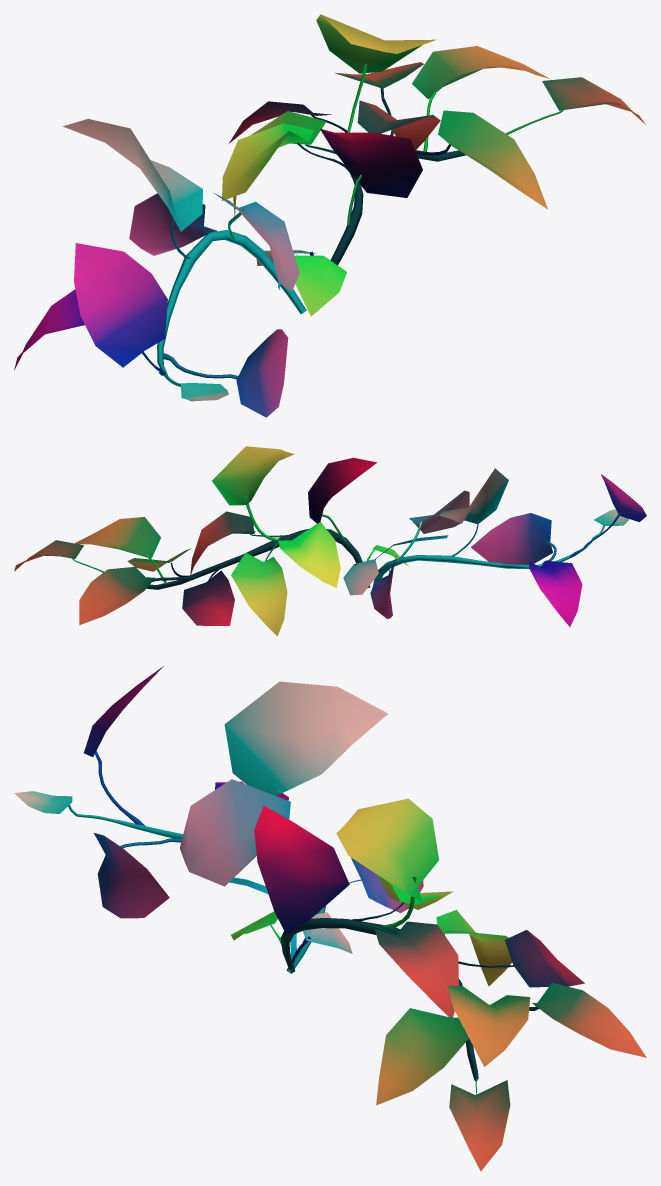
The model's file is Money_Plant_uchmfdyia_Low_uchmfdyia_VarD_LOD0.fbx.
The picture shows the model from 3 angles, top to bottom: view 1: azimuth 30°, elevation 25°; view 2: azimuth 150°, elevation 25°; view 3: azimuth 270°, elevation 25°; orthographic projection. The views are drawn at different scales.
Visible parts, largest first — view 1: _7d52_VarD_LOD1; view 2: _7d52_VarD_LOD1; view 3: _7d52_VarD_LOD1.
Part boxes in pixels (box(x1,y1,x2,y2)): _7d52_VarD_LOD1: box(14, 14, 646, 417); _7d52_VarD_LOD1: box(14, 446, 646, 636); _7d52_VarD_LOD1: box(14, 665, 646, 1171).
Bounding box in the file's own units: 38.13 × 11.19 × 29.95.
